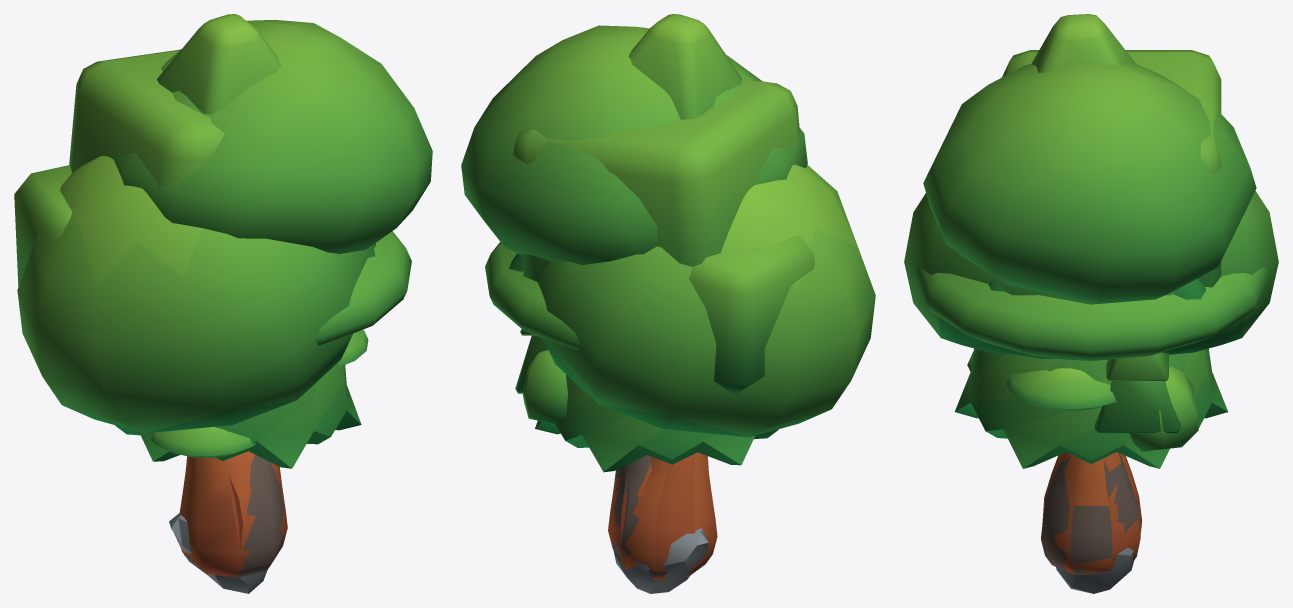
File: kit_nature.glb
The picture shows the model from 3 angles, left to right: view 1: azimuth 30°, elevation 25°; view 2: azimuth 150°, elevation 25°; view 3: azimuth 270°, elevation 25°; orthographic projection.
Parts seen in each view (by area): view 1: Tree_1_A_Color1, Tree_7_A_Color1, Tree_2_A_Color1, Tree_3_A_Color1, Tree_4_A_Color1, Tree_5_A_Color1, Tree_Bare_1_A_Color8, Rock_3_A_Color1; view 2: Tree_1_A_Color1, Tree_7_A_Color1, Tree_2_A_Color1, Tree_3_A_Color1, Tree_4_A_Color1, Tree_5_A_Color1, Rock_3_A_Color1, Tree_Bare_1_A_Color8; view 3: Tree_7_A_Color1, Tree_3_A_Color1, Tree_1_A_Color1, Tree_5_A_Color1, Tree_4_A_Color1, Tree_Bare_1_A_Color8, Tree_2_A_Color1, Rock_3_A_Color1.
Boxes of the visible parts, <box> form: Tree_1_A_Color1: <box>17,156,375,575</box>; Tree_7_A_Color1: <box>114,20,432,253</box>; Tree_2_A_Color1: <box>14,49,224,286</box>; Tree_3_A_Color1: <box>151,231,411,577</box>; Tree_4_A_Color1: <box>157,14,375,257</box>; Tree_5_A_Color1: <box>115,362,361,468</box>; Tree_Bare_1_A_Color8: <box>182,454,285,577</box>; Rock_3_A_Color1: <box>169,513,267,593</box>; Tree_1_A_Color1: <box>522,164,875,577</box>; Tree_7_A_Color1: <box>461,25,807,265</box>; Tree_2_A_Color1: <box>512,80,814,395</box>; Tree_3_A_Color1: <box>485,242,717,580</box>; Tree_4_A_Color1: <box>509,14,741,393</box>; Tree_5_A_Color1: <box>535,374,778,472</box>; Rock_3_A_Color1: <box>612,528,708,593</box>; Tree_Bare_1_A_Color8: <box>614,455,707,577</box>; Tree_7_A_Color1: <box>923,61,1256,303</box>; Tree_3_A_Color1: <box>913,267,1269,574</box>; Tree_1_A_Color1: <box>904,191,1278,572</box>; Tree_5_A_Color1: <box>954,348,1228,468</box>; Tree_4_A_Color1: <box>988,14,1205,433</box>; Tree_Bare_1_A_Color8: <box>1041,453,1140,574</box>; Tree_2_A_Color1: <box>1002,50,1221,287</box>; Rock_3_A_Color1: <box>1056,547,1133,593</box>.
Bounding box in the file's own units: 3.68 × 5.4 × 3.25.
Materials: 1 (1 with a texture image).
